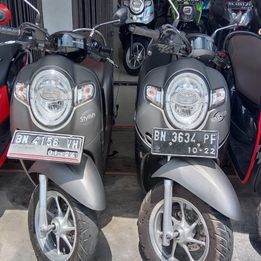plate: (154, 125, 219, 159)
